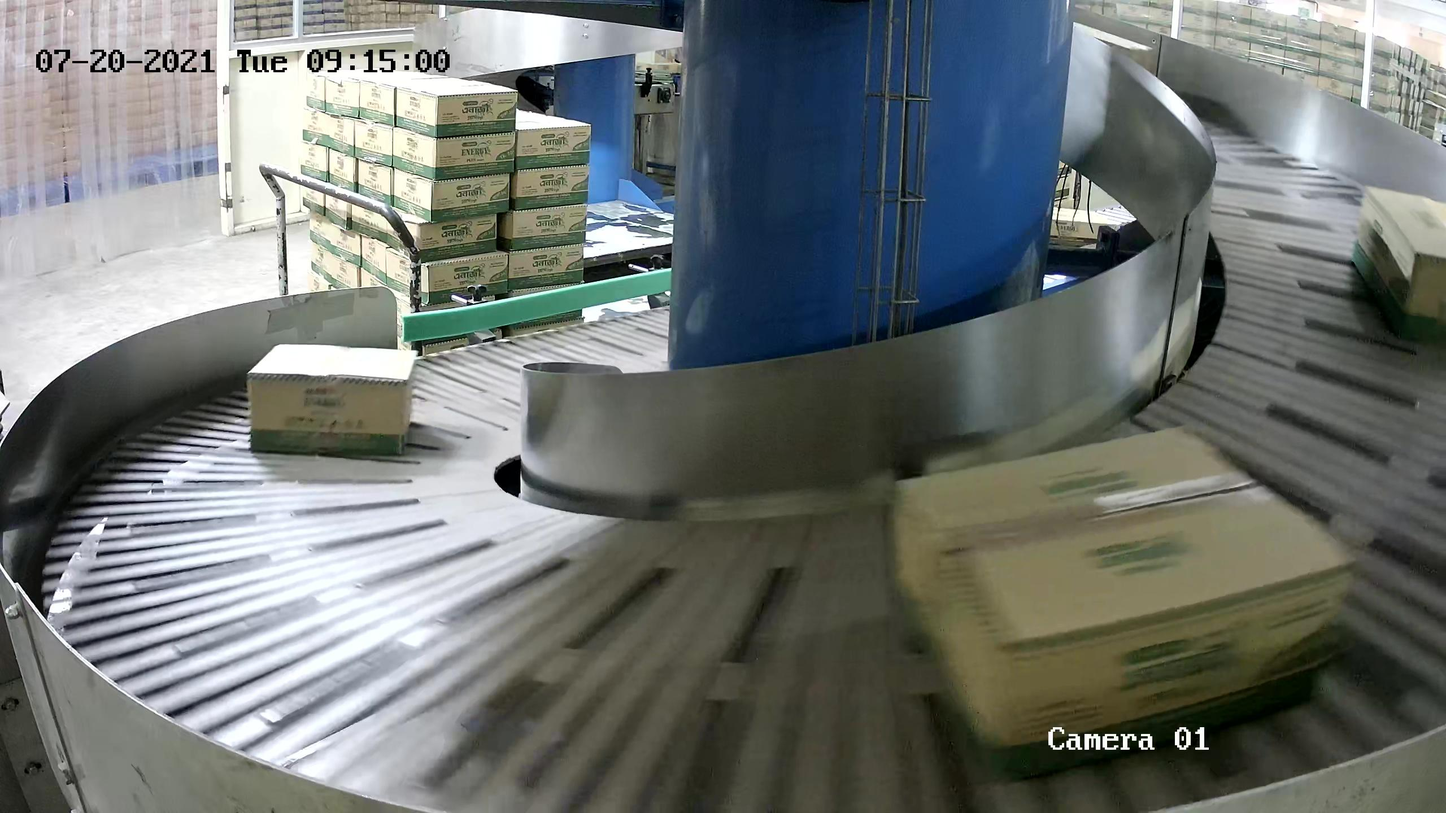Box: (887, 420, 1360, 783), (247, 341, 417, 458), (1349, 183, 1446, 344)
